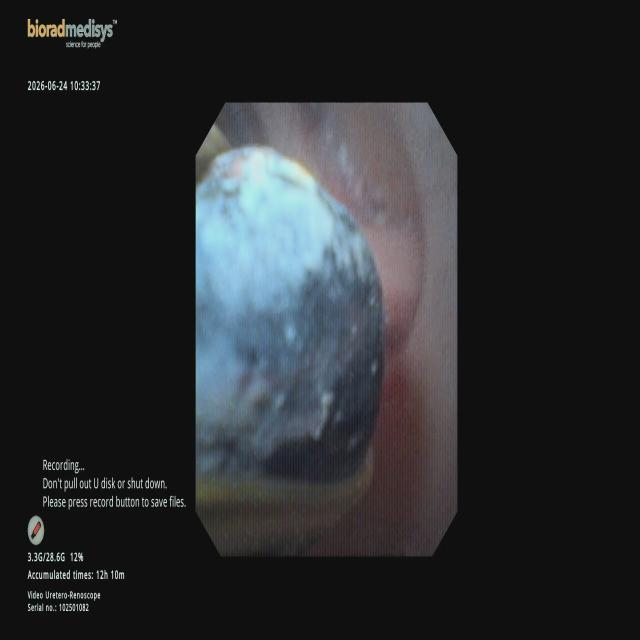stone-new: (195, 146, 384, 481)
